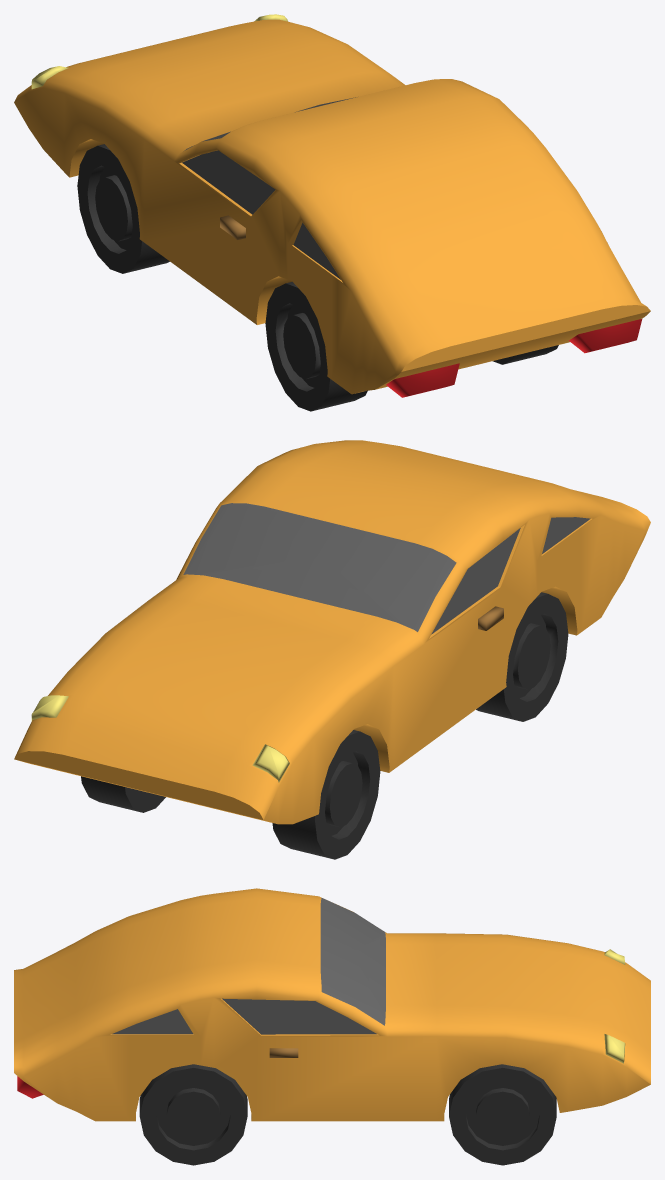
3 views of the same model, one above another, from view 1: azimuth 30°, elevation 25°; view 2: azimuth 150°, elevation 25°; view 3: azimuth 270°, elevation 25° (orthographic). The views are drawn at different scales.
Parts seen in each view (by area): view 1: Sari_govde, sari_teker_lastigi.002, sari_teker_lastigi.003, sari_arka_farlar, sari_yan__on_cam, sari_yan_arka_cam; view 2: Sari_govde, sari_on_cam, sari_teker_lastigi.003, sari_teker_lastigi.002, sari_yan__on_cam, sari_teker_lastigi.001, sari_on_farlar, sari_yan_arka_cam; view 3: Sari_govde, sari_teker_lastigi, sari_teker_lastigi.001, sari_on_cam, sari_yan__on_cam, sari_yan_arka_cam, sari_on_farlar.
Boxes of the visible parts, <box> form: Sari_govde: <box>14,19,650,394</box>; sari_teker_lastigi.002: <box>265,281,367,411</box>; sari_teker_lastigi.003: <box>77,144,169,273</box>; sari_arka_farlar: <box>386,319,642,397</box>; sari_yan__on_cam: <box>182,150,275,214</box>; sari_yan_arka_cam: <box>293,222,340,279</box>; Sari_govde: <box>14,440,650,824</box>; sari_on_cam: <box>183,503,456,631</box>; sari_teker_lastigi.003: <box>272,730,380,859</box>; sari_teker_lastigi.002: <box>476,592,568,721</box>; sari_yan__on_cam: <box>431,528,520,634</box>; sari_teker_lastigi.001: <box>81,776,165,812</box>; sari_on_farlar: <box>31,695,289,782</box>; sari_yan_arka_cam: <box>542,517,590,553</box>; Sari_govde: <box>14,888,650,1121</box>; sari_teker_lastigi: <box>139,1064,247,1165</box>; sari_teker_lastigi.001: <box>449,1064,556,1165</box>; sari_on_cam: <box>320,898,385,1025</box>; sari_yan__on_cam: <box>222,998,376,1034</box>; sari_yan_arka_cam: <box>112,1009,193,1034</box>; sari_on_farlar: <box>604,949,625,1063</box>.
Size of the model in its own units: 83.51 by 70.3 by 214.
